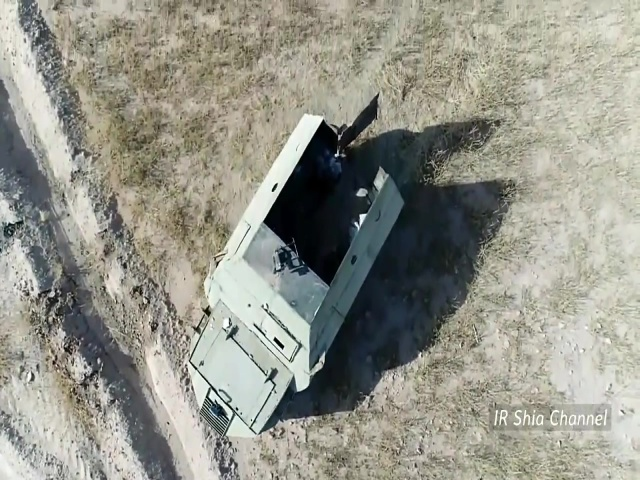vehicle: (185, 114, 407, 440)
